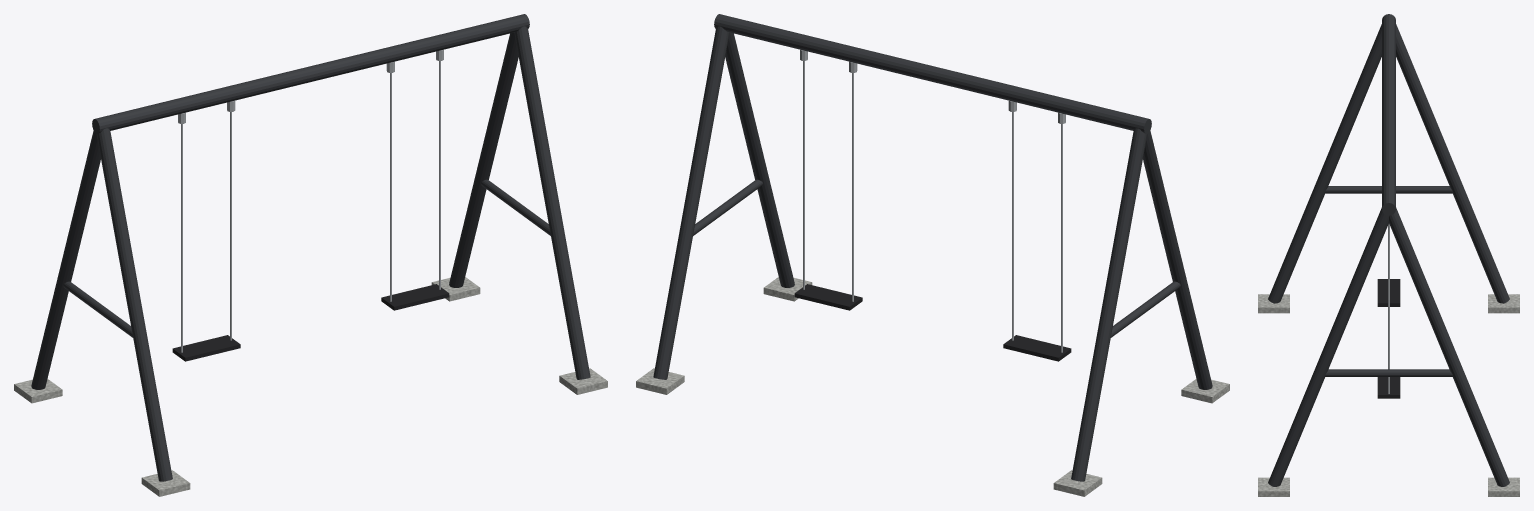
3 views of the same model, side by side, from view 1: azimuth 30°, elevation 25°; view 2: azimuth 150°, elevation 25°; view 3: azimuth 270°, elevation 25° (orthographic). The views are drawn at different scales.
Visible parts, largest first — view 1: frameDiameter=0.1;frameSpread=1.8;height=2.4;material=steel_ (×4); view 2: frameDiameter=0.1;frameSpread=1.8;height=2.4;material=steel_ (×4); view 3: frameDiameter=0.1;frameSpread=1.8;height=2.4;material=steel_ (×4).
Part boxes in pixels (x1,y1,x2,y2): frameDiameter=0.1;frameSpread=1.8;height=2.4;material=steel_ (×4): (14, 14, 607, 496); frameDiameter=0.1;frameSpread=1.8;height=2.4;material=steel_ (×4): (636, 14, 1229, 496); frameDiameter=0.1;frameSpread=1.8;height=2.4;material=steel_ (×4): (1258, 14, 1519, 496).
Size of the model in its own units: 3.65 by 2.05 by 2.5.
Materials: 4 (1 with a texture image).
